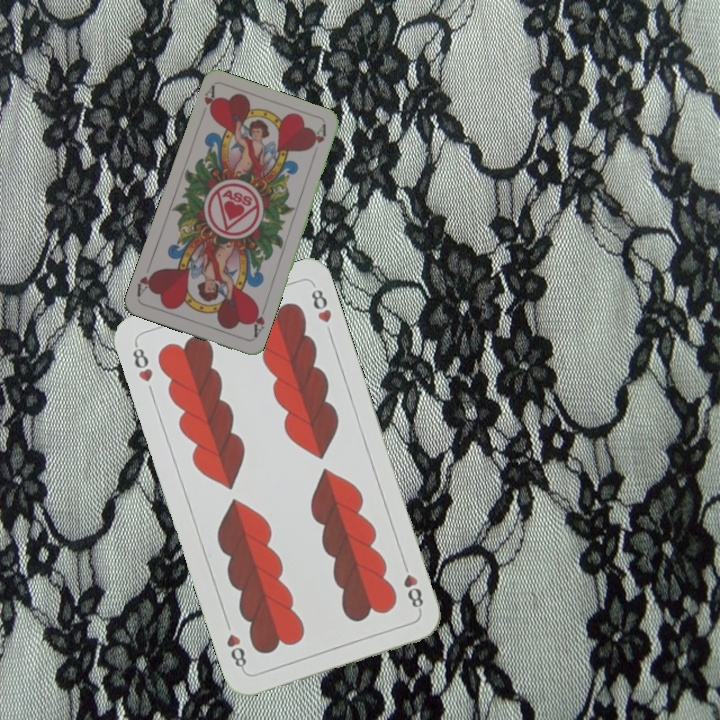H8: (398, 557, 426, 614), (128, 339, 156, 385)
HA: (247, 301, 268, 340), (200, 82, 220, 118)
